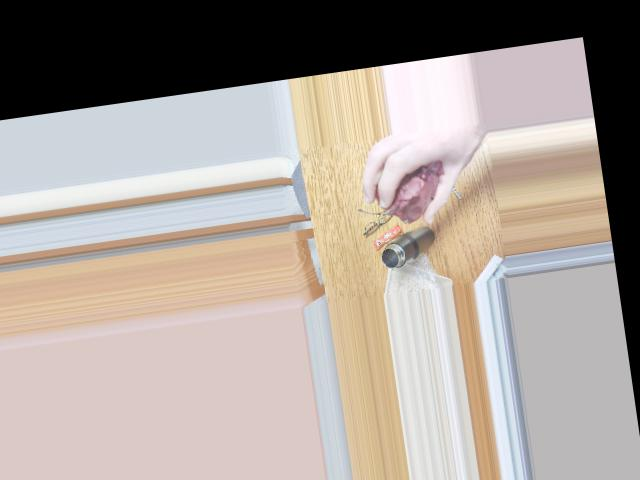onion: (377, 158, 450, 220)
